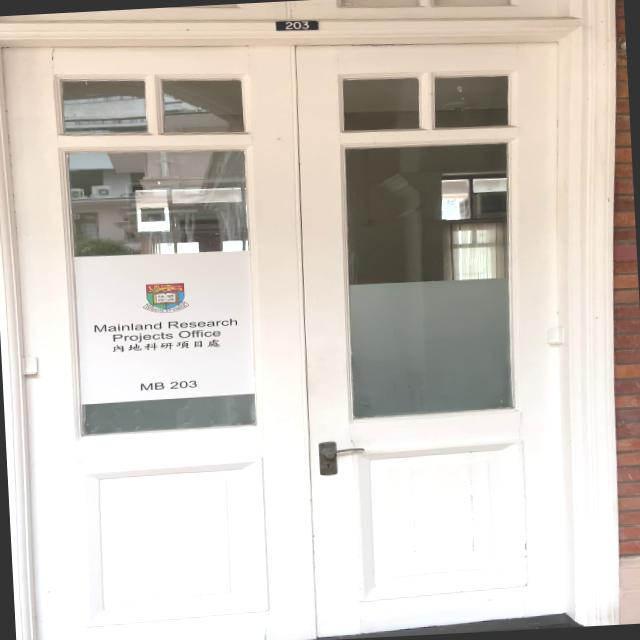room203: (266, 16, 325, 35)
room203Window: (128, 369, 208, 398)
